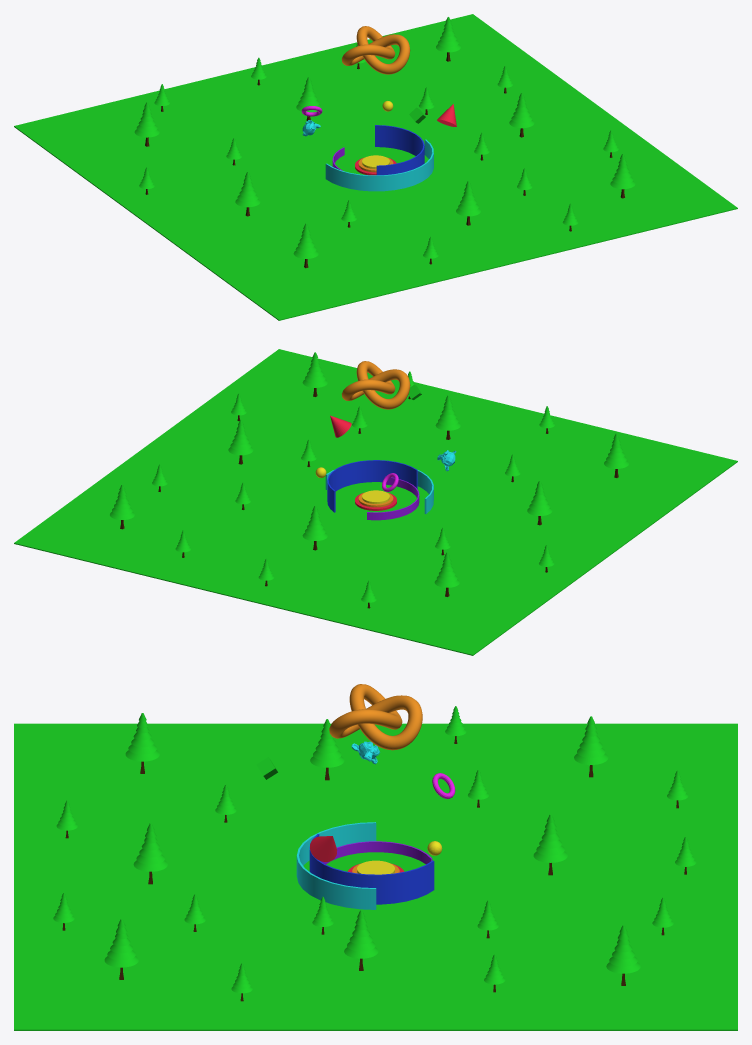
Rendered from lobby scene.fbx.
The picture shows the model from 3 angles, top to bottom: view 1: azimuth 30°, elevation 25°; view 2: azimuth 150°, elevation 25°; view 3: azimuth 270°, elevation 25°; orthographic projection. The views are drawn at different scales.
Parts seen in each view (by area): view 1: Cube, TorusKnot.001, Cylinder.003, Cylinder.004, Big_tree, Big_tree.002, Big_tree.007, Big_tree.004, Big_tree.006, Big_tree.003, Big_tree.005; view 2: Cube, TorusKnot.001, Cylinder.004, Cylinder.005, Big_tree, Big_tree.002, Big_tree.006, Big_tree.001, Big_tree.003, Big_tree.004, Big_tree.007, Big_tree.005; view 3: Cube, TorusKnot.001, Cylinder.003, Cylinder.004, Cylinder.005, Big_tree.003, Big_tree.001, Big_tree.005, Big_tree, Big_tree.006, Big_tree.004, Big_tree.007 (+2 smaller).
Boxes of the visible parts, x1,y1,x2,y2 form: Cube: (14,14,737,320); TorusKnot.001: (341,26,410,74); Cylinder.003: (325,139,433,191); Cylinder.004: (375,125,424,175); Big_tree: (509,92,534,137); Big_tree.002: (235,171,260,216); Big_tree.007: (436,17,460,61); Big_tree.004: (610,153,635,198); Big_tree.006: (134,102,159,146); Big_tree.003: (456,181,480,225); Big_tree.005: (293,223,318,268); Cube: (14,349,737,655); TorusKnot.001: (341,361,410,409); Cylinder.004: (327,460,417,512); Cylinder.005: (367,476,419,520); Big_tree: (228,419,253,464); Big_tree.002: (527,480,552,525); Big_tree.006: (434,552,459,596); Big_tree.001: (302,505,327,550); Big_tree.003: (435,395,460,439); Big_tree.004: (302,352,327,396); Big_tree.007: (110,484,134,529); Big_tree.005: (604,433,628,477); Cube: (14,723,737,1030); TorusKnot.001: (329,684,422,750); Cylinder.003: (296,822,376,909); Cylinder.004: (309,834,434,904); Cylinder.005: (321,841,432,864); Big_tree.003: (133,823,167,884); Big_tree.001: (533,814,567,875); Big_tree.005: (125,713,159,773); Big_tree: (344,910,378,970); Big_tree.006: (574,716,608,777); Big_tree.004: (104,919,138,979); Big_tree.007: (606,925,640,985).
Size of the model in its own units: 5000 by 1371 by 5000.
2 materials, 2 textured.
